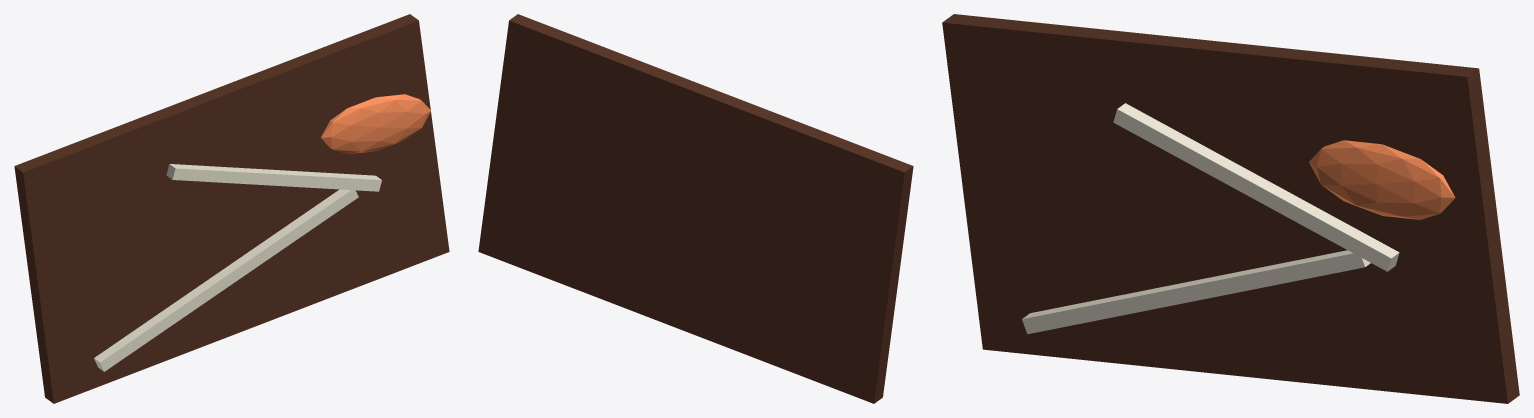
Rendered from 02_weathering_wear_overlay_2.glb.
3 views of the same model, side by side, from view 1: azimuth 30°, elevation 25°; view 2: azimuth 150°, elevation 25°; view 3: azimuth 330°, elevation 25° (orthographic). The views are drawn at different scales.
Visible parts, largest first — view 1: wear_plate, scratch_a, rust_or_moss_spot, scratch_b; view 2: wear_plate; view 3: wear_plate, rust_or_moss_spot, scratch_b, scratch_a.
Boxes of the visible parts, x1,y1,x2,y2 form: wear_plate: (14, 14, 449, 403); scratch_a: (94, 189, 358, 371); rust_or_moss_spot: (321, 94, 430, 154); scratch_b: (166, 164, 381, 191); wear_plate: (478, 14, 913, 403); wear_plate: (942, 14, 1519, 403); rust_or_moss_spot: (1309, 140, 1455, 219); scratch_b: (1113, 103, 1399, 271); scratch_a: (1022, 250, 1370, 334).
Size of the model in its own units: 1.39 by 0.9162 by 0.134.
